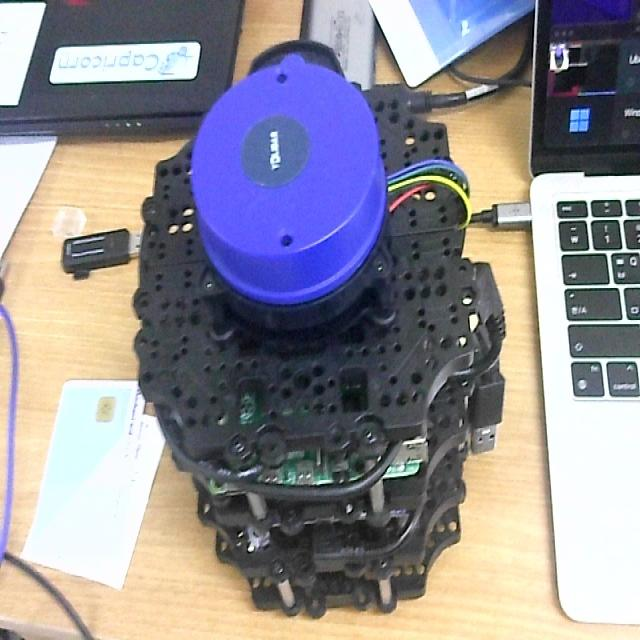turtle: (132, 37, 509, 621)
